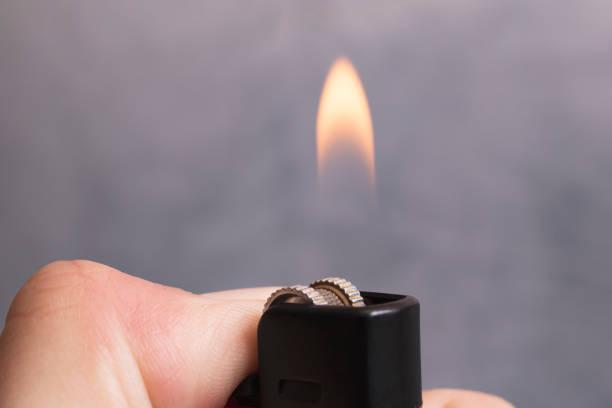Fire: (313, 56, 377, 265)
